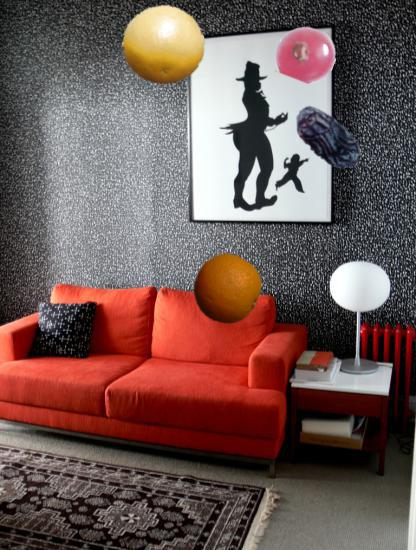Dates: (288, 99, 368, 179)
Grapefruit: (121, 3, 205, 87)
Orange: (192, 254, 263, 325)
Redcurrant: (277, 25, 336, 84)
